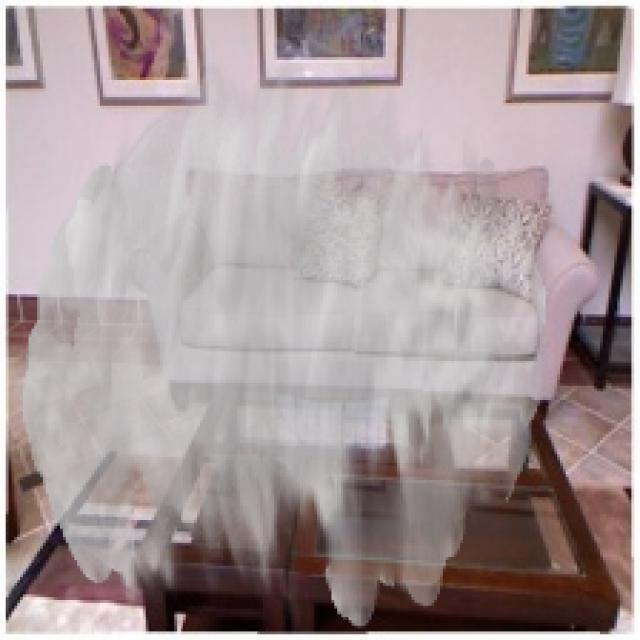smoke: (23, 60, 548, 629)
